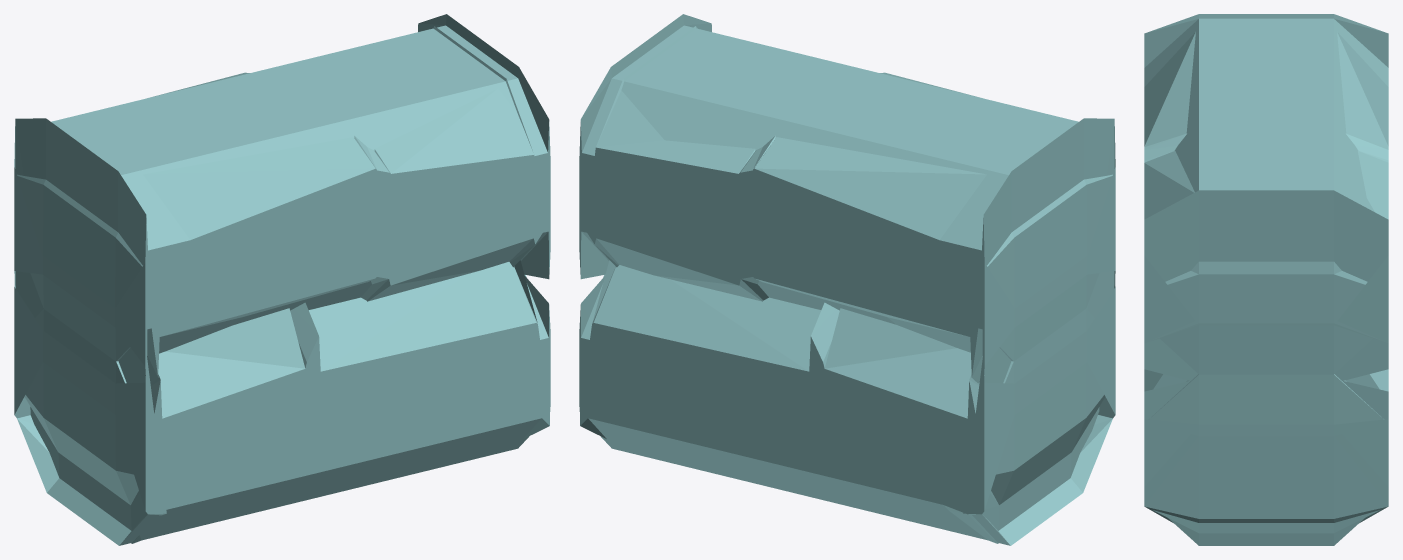
File: menu_leaderboard_open.dae
3 views of the same model, side by side, from view 1: azimuth 30°, elevation 25°; view 2: azimuth 150°, elevation 25°; view 3: azimuth 270°, elevation 25° (orthographic). The views are drawn at different scales.
Visible parts, largest first — view 1: start_dot; view 2: start_dot; view 3: start_dot.
Part boxes in pixels (x1,y1,x2,y2): start_dot: [14, 14, 550, 545]; start_dot: [579, 14, 1115, 545]; start_dot: [1144, 14, 1388, 545].
Size of the model in its own units: 0.0806 by 0.0724 by 0.0449.
